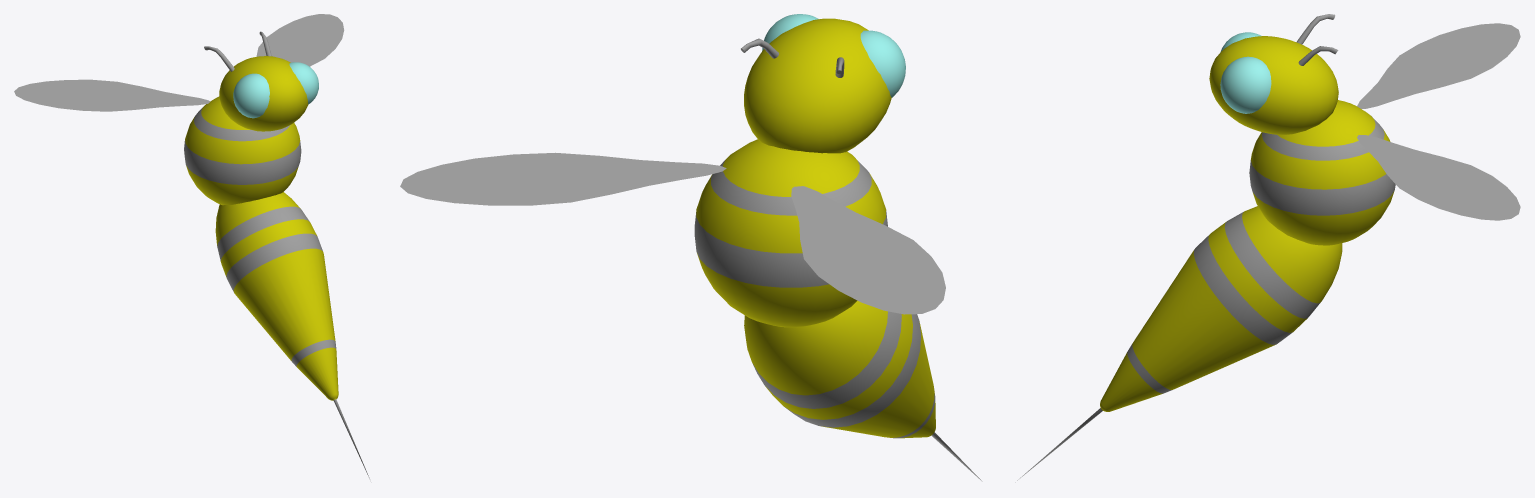
File: Bee.fbx
3 renders of one model, left to right at view 1: azimuth 30°, elevation 25°; view 2: azimuth 150°, elevation 25°; view 3: azimuth 270°, elevation 25°, orthographic. The views are drawn at different scales.
Visible parts, largest first — view 1: Body_GEO, BEE_GEO, R_Wing_GEO, Head_GEO, L_Wing_GEO, R_Eye_GEO, L_Eye_GEO; view 2: BEE_GEO, Body_GEO, Head_GEO, L_Wing_GEO, R_Wing_GEO, R_Eye_GEO, L_Eye_GEO; view 3: Body_GEO, BEE_GEO, Head_GEO, L_Wing_GEO, R_Wing_GEO, L_Eye_GEO.
Boxes of the visible parts, bbox=[...] form: Body_GEO: bbox=[215, 192, 369, 478]; BEE_GEO: bbox=[184, 96, 301, 205]; R_Wing_GEO: bbox=[14, 79, 210, 111]; Head_GEO: bbox=[219, 56, 308, 131]; L_Wing_GEO: bbox=[256, 14, 344, 66]; R_Eye_GEO: bbox=[233, 73, 269, 118]; L_Eye_GEO: bbox=[289, 62, 318, 104]; BEE_GEO: bbox=[694, 139, 887, 327]; Body_GEO: bbox=[744, 300, 982, 481]; Head_GEO: bbox=[744, 18, 891, 153]; L_Wing_GEO: bbox=[400, 152, 726, 205]; R_Wing_GEO: bbox=[791, 186, 945, 314]; R_Eye_GEO: bbox=[860, 30, 905, 97]; L_Eye_GEO: bbox=[762, 14, 818, 50]; Body_GEO: bbox=[1015, 206, 1342, 482]; BEE_GEO: bbox=[1249, 100, 1395, 245]; Head_GEO: bbox=[1209, 36, 1338, 134]; L_Wing_GEO: bbox=[1357, 135, 1520, 220]; R_Wing_GEO: bbox=[1357, 23, 1520, 108]; L_Eye_GEO: bbox=[1220, 56, 1271, 113].
Size of the model in its own units: 306 by 322 by 332.
